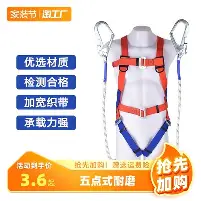safety belt: (110, 36, 177, 161)
